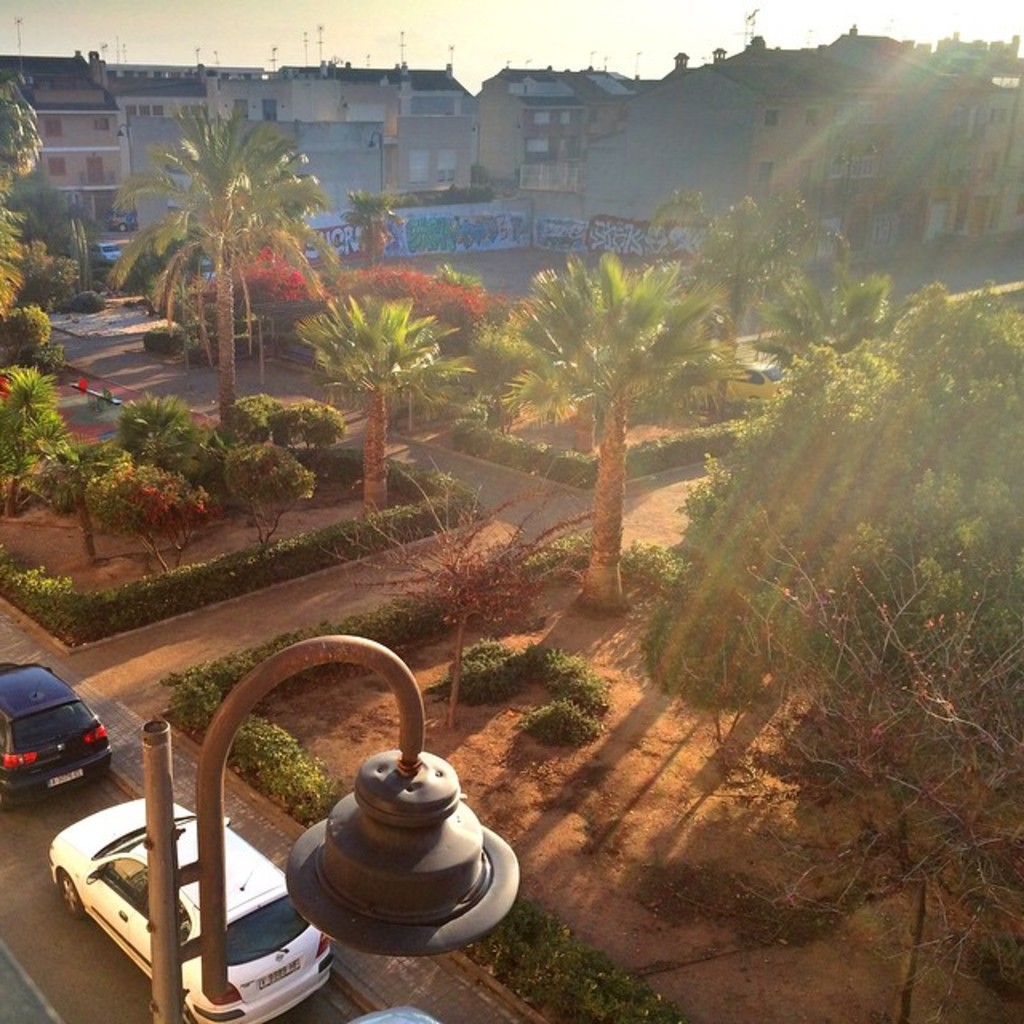mobil: (52, 785, 344, 1021)
